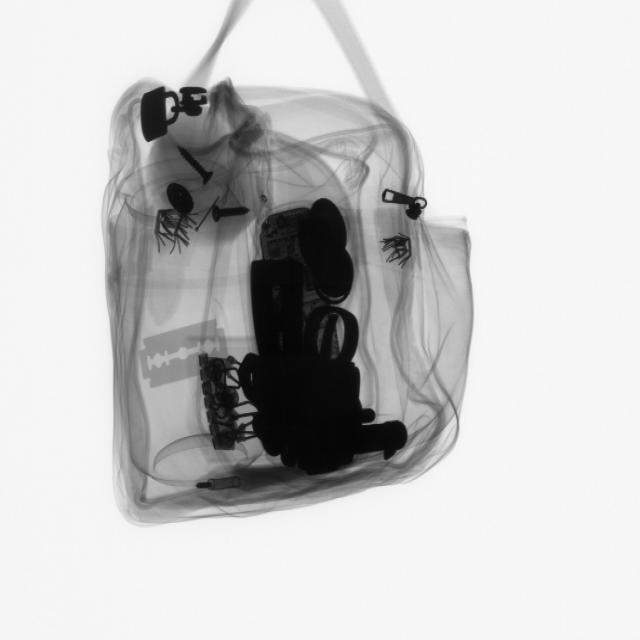BLADE: (135, 304, 234, 396)
GUN: (235, 253, 409, 474)
SCREW: (178, 143, 219, 193), (202, 196, 257, 228)
